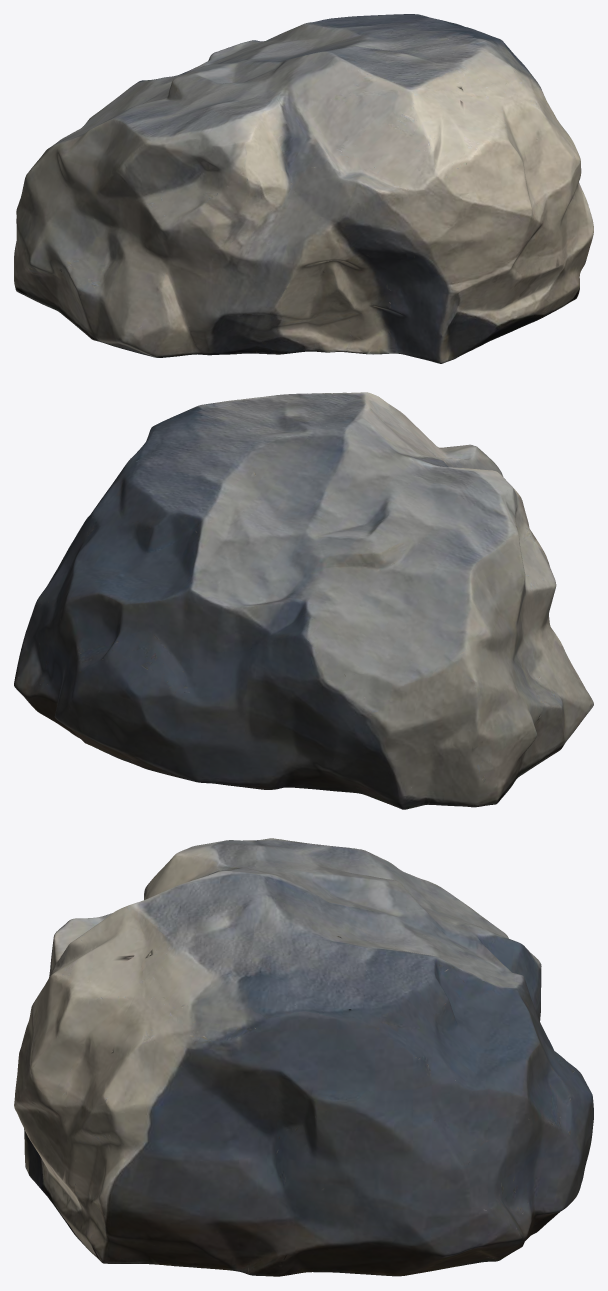
Rendered from Meshy_AI_Low_poly_rock__0224030056_texture.glb.
3 renders of one model, top to bottom at view 1: azimuth 30°, elevation 25°; view 2: azimuth 150°, elevation 25°; view 3: azimuth 270°, elevation 25°, orthographic. The views are drawn at different scales.
Size of the model in its own units: 2 by 1.01 by 1.84.
Materials: 1 (1 with a texture image).
